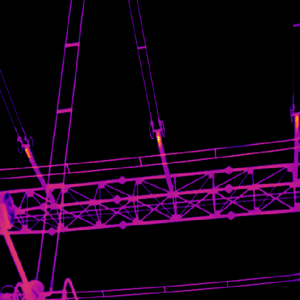insulator: (22, 143, 54, 204), (155, 130, 172, 195), (292, 114, 298, 190)
